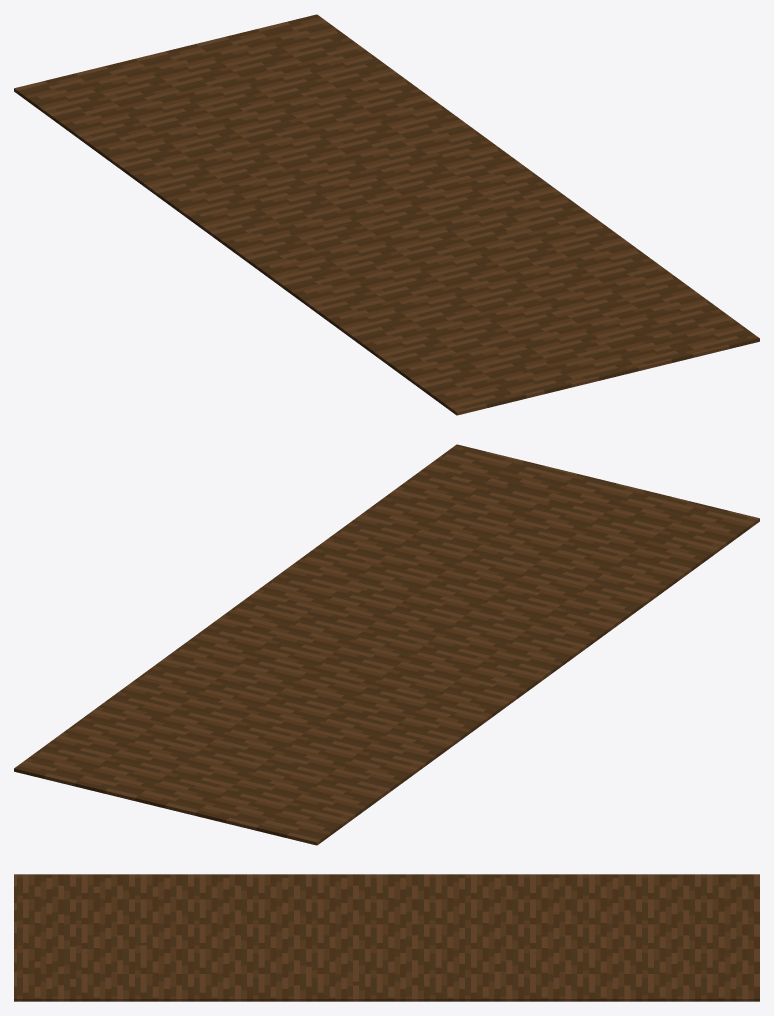
File: sole.obj
3 views of the same model, one above another, from view 1: azimuth 30°, elevation 25°; view 2: azimuth 150°, elevation 25°; view 3: azimuth 270°, elevation 25° (orthographic). The views are drawn at different scales.
Size of the model in its own units: 10 by 0.1 by 25.3.
1 material, 1 textured.
